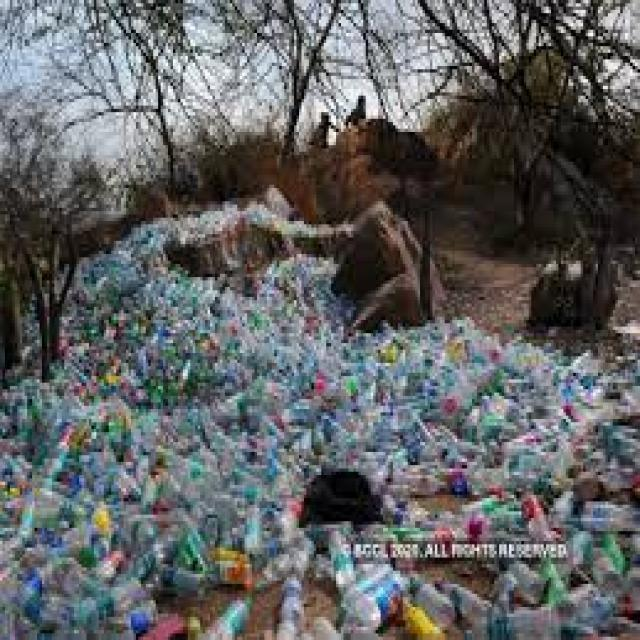heap: (55, 304, 638, 640)
